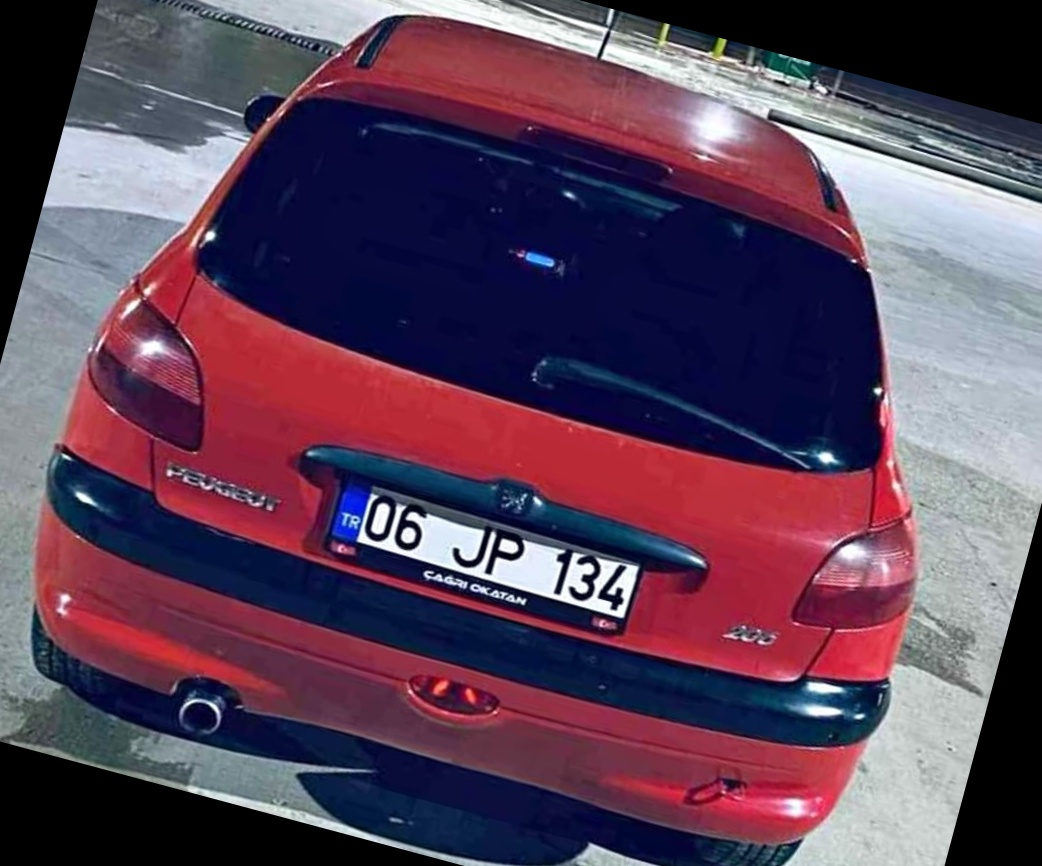plaka: (363, 477, 635, 625)
